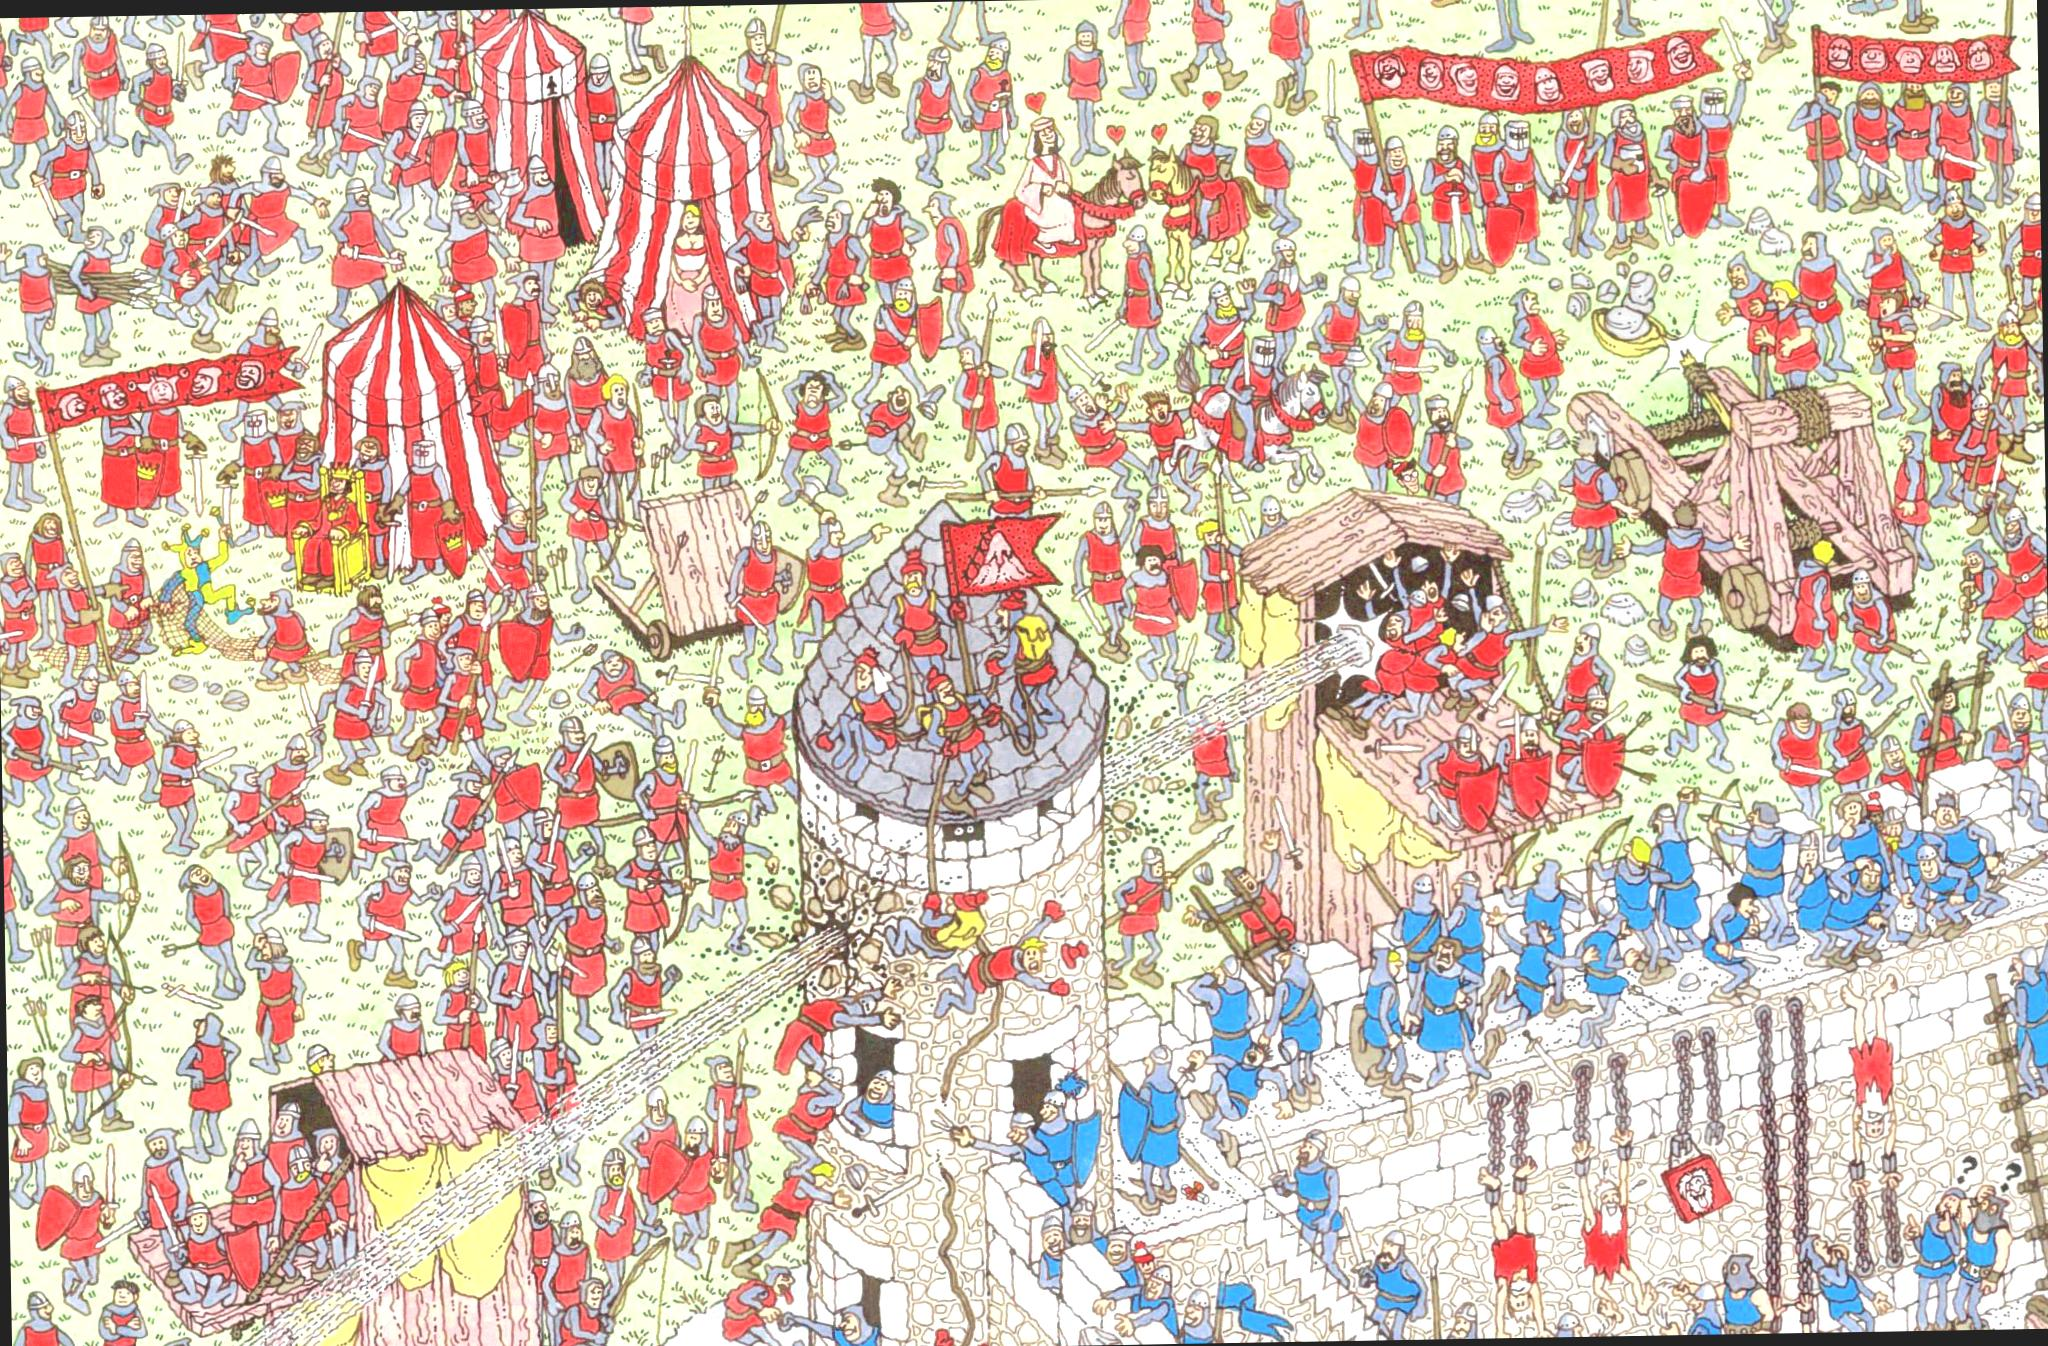waldo: (1386, 457, 1419, 494)
